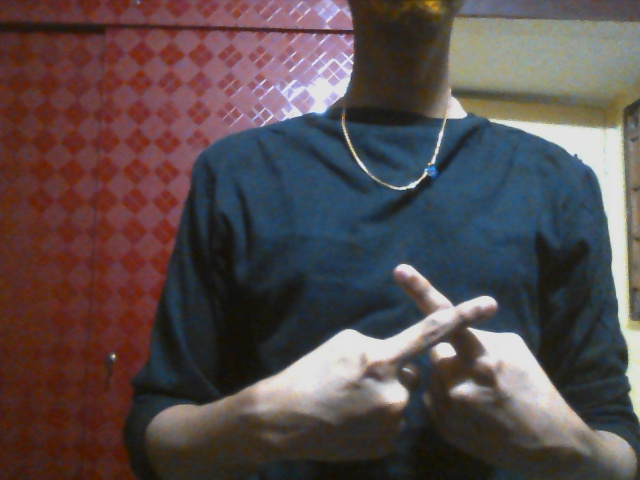X: (277, 261, 559, 467)
